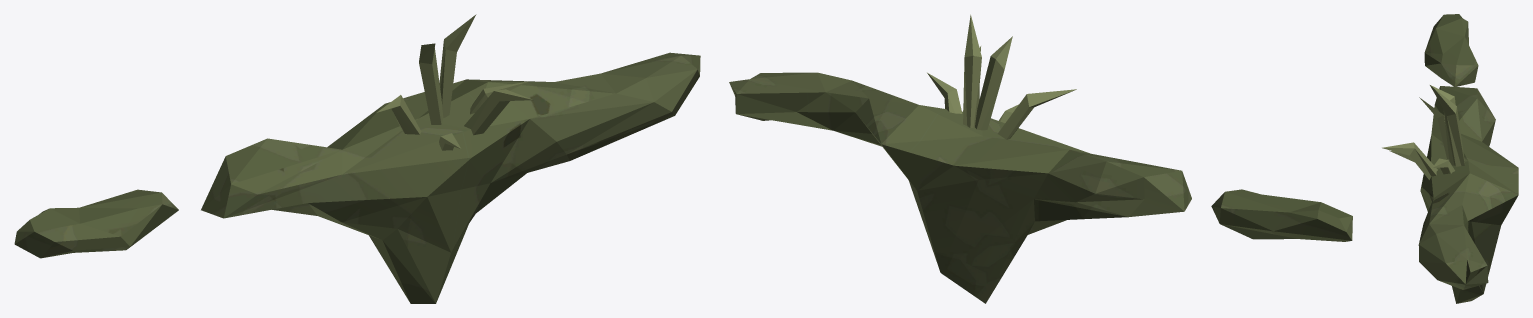
Rendered from SM_Env_Overgrowth_Edge_01.obj.
3 views of the same model, side by side, from view 1: azimuth 30°, elevation 25°; view 2: azimuth 150°, elevation 25°; view 3: azimuth 270°, elevation 25° (orthographic). The views are drawn at different scales.
Parts seen in each view (by area): view 1: SM_Env_Overgrowth_Edge_01_1, SM_Env_Overgrowth_Edge_01_0; view 2: SM_Env_Overgrowth_Edge_01_1, SM_Env_Overgrowth_Edge_01_0; view 3: SM_Env_Overgrowth_Edge_01_1, SM_Env_Overgrowth_Edge_01_0.
Part boxes in pixels (<box>): SM_Env_Overgrowth_Edge_01_1: <box>14,52,700,303</box>; SM_Env_Overgrowth_Edge_01_0: <box>376,14,533,150</box>; SM_Env_Overgrowth_Edge_01_1: <box>729,72,1352,303</box>; SM_Env_Overgrowth_Edge_01_0: <box>927,14,1076,139</box>; SM_Env_Overgrowth_Edge_01_1: <box>1418,14,1518,303</box>; SM_Env_Overgrowth_Edge_01_0: <box>1382,85,1464,179</box>.
Bounding box in the file's own units: 3.57 × 1.47 × 0.8018.
Materials: 2 (2 with a texture image).
